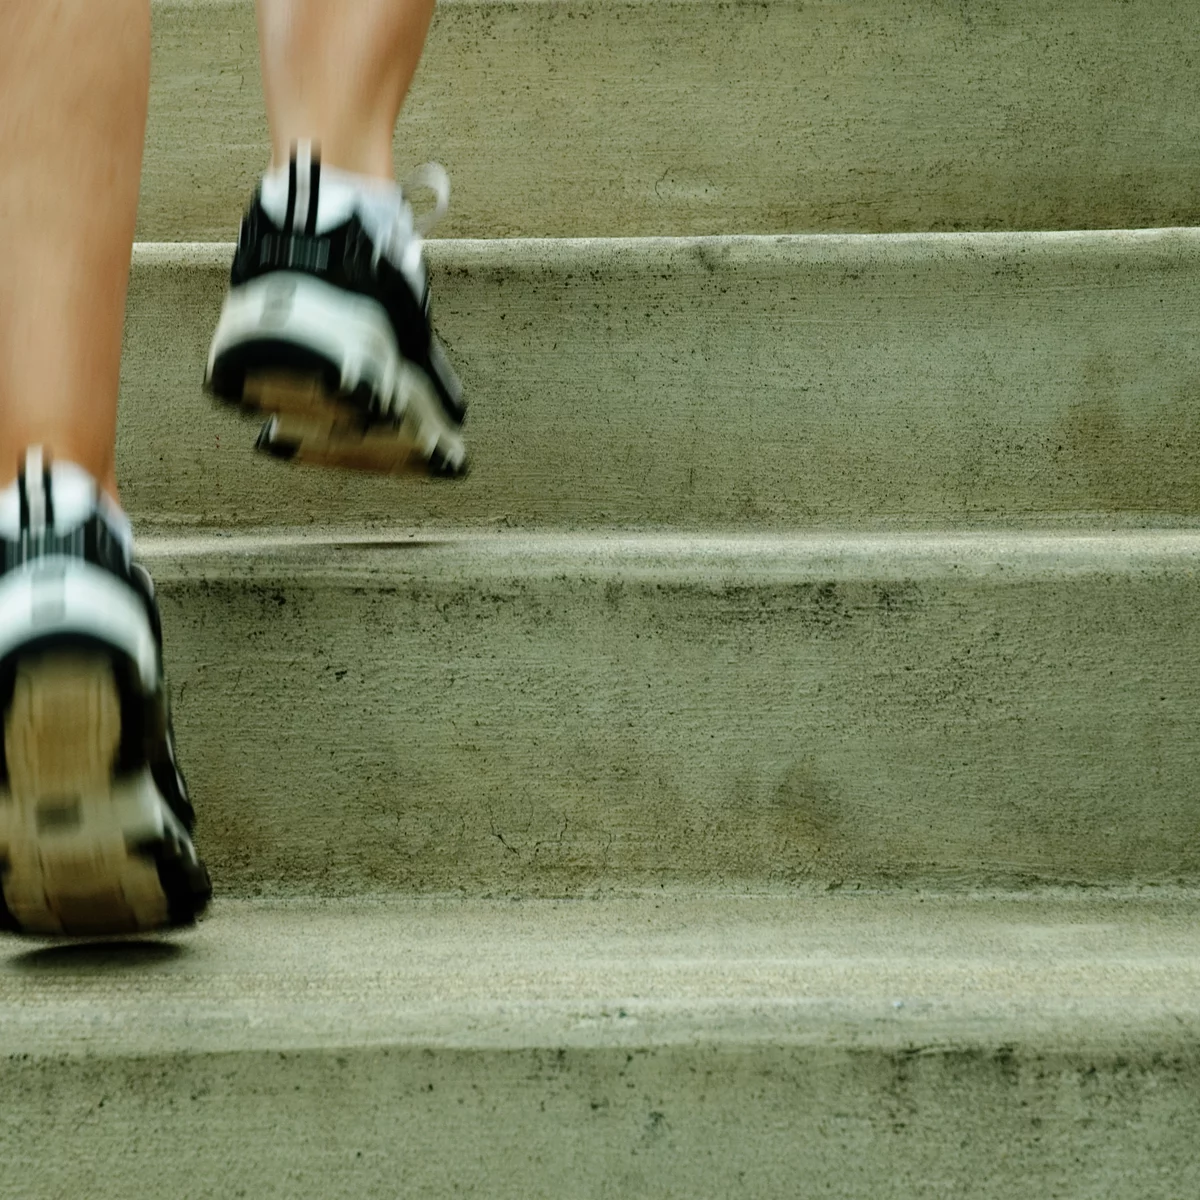escada: (476, 29, 1184, 1200)
